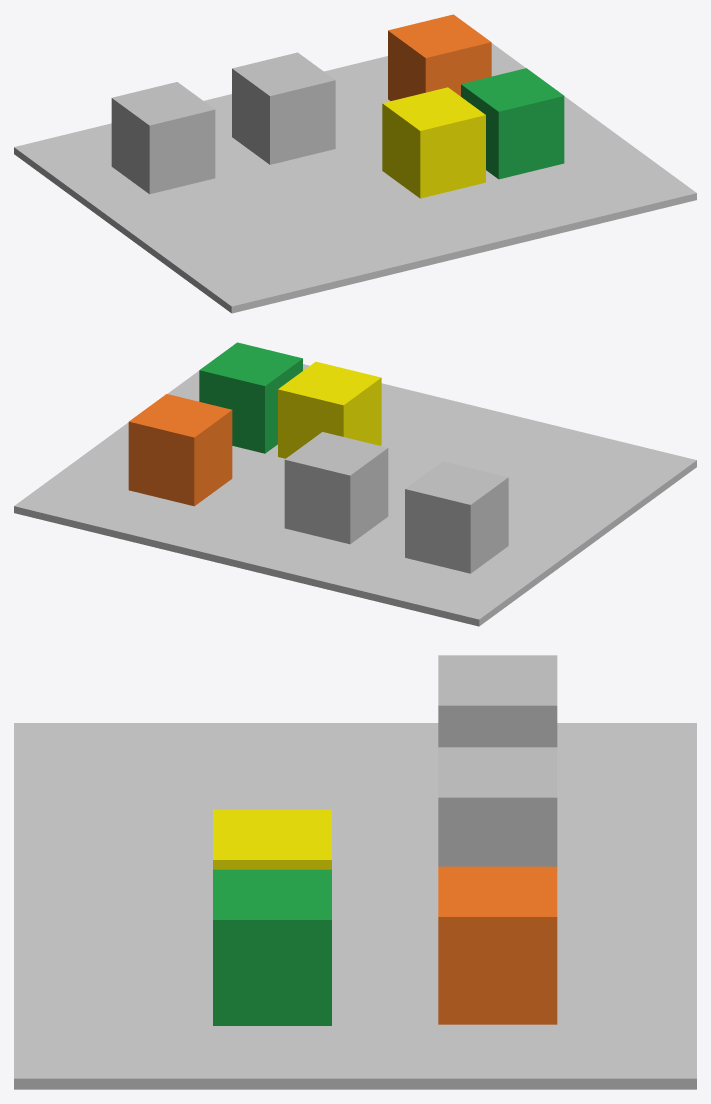
Rendered from blocks.fbx.
3 renders of one model, top to bottom at view 1: azimuth 30°, elevation 25°; view 2: azimuth 150°, elevation 25°; view 3: azimuth 270°, elevation 25°, orthographic. The views are drawn at different scales.
Parts seen in each view (by area): view 1: Cube, Cube.003, Cube.002, Cube.006, Cube.005, Cube.001; view 2: Cube, Cube.002, Cube.001, Cube.003, Cube.006, Cube.005; view 3: Cube, Cube.001, Cube.005, Cube.002, Cube.003, Cube.006.
Part boxes in pixels (x1=…): Cube: x1=14, y1=43, x2=696, y2=313; Cube.003: x1=111, y1=82, x2=215, y2=194; Cube.002: x1=232, y1=52, x2=335, y2=164; Cube.006: x1=382, y1=87, x2=485, y2=198; Cube.005: x1=461, y1=68, x2=564, y2=179; Cube.001: x1=388, y1=14, x2=491, y2=100; Cube: x1=14, y1=364, x2=696, y2=626; Cube.002: x1=284, y1=432, x2=388, y2=544; Cube.001: x1=128, y1=394, x2=232, y2=506; Cube.003: x1=405, y1=461, x2=508, y2=573; Cube.006: x1=278, y1=361, x2=381, y2=458; Cube.005: x1=199, y1=342, x2=302, y2=453; Cube: x1=14, y1=723, x2=696, y2=1089; Cube.001: x1=438, y1=866, x2=557, y2=1024; Cube.005: x1=213, y1=869, x2=331, y2=1025; Cube.002: x1=438, y1=747, x2=557, y2=866; Cube.003: x1=438, y1=655, x2=557, y2=747; Cube.006: x1=213, y1=809, x2=331, y2=869.
Bounding box in the file's own units: 14.16 × 2.21 × 11.48.
